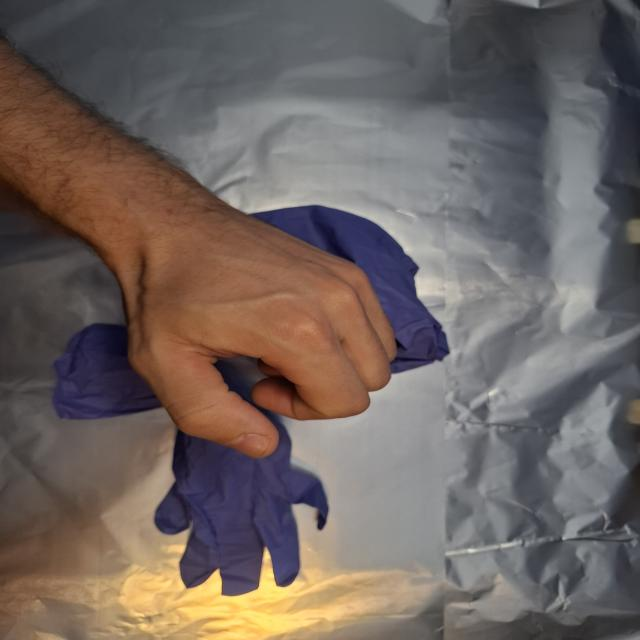glove_off: (123, 221, 402, 461)
